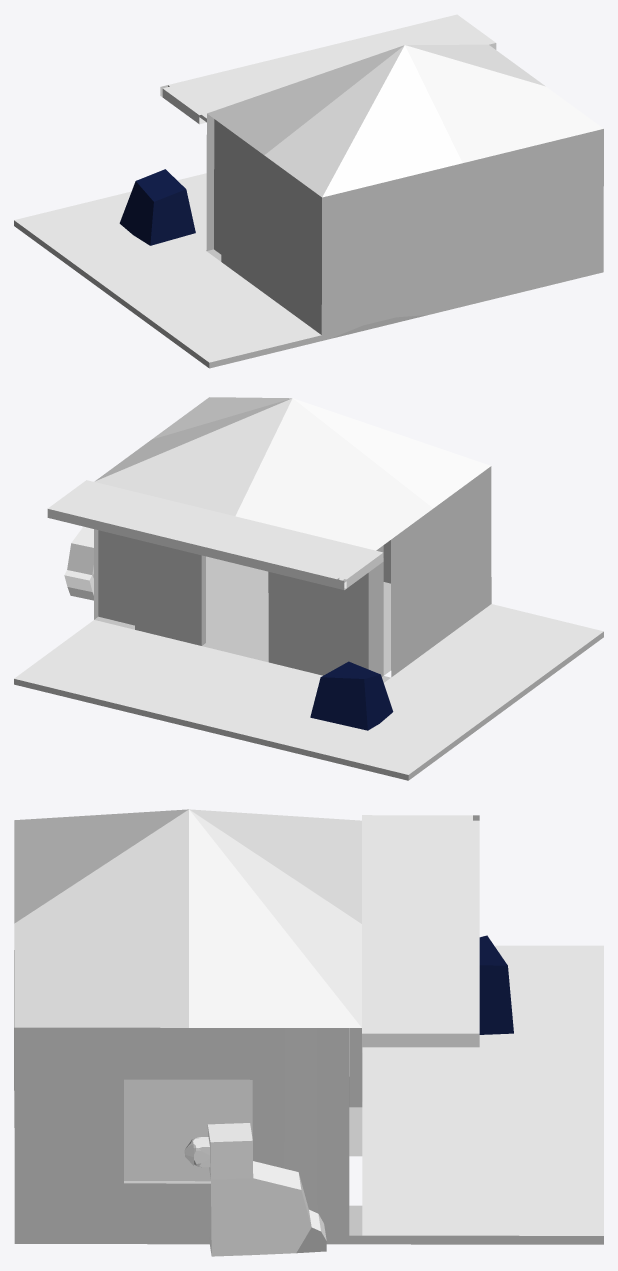
File: house.glb
The picture shows the model from 3 angles, top to bottom: view 1: azimuth 30°, elevation 25°; view 2: azimuth 150°, elevation 25°; view 3: azimuth 270°, elevation 25°; orthographic projection. The views are drawn at different scales.
Visible parts, largest first — view 1: Cube, Cube.002; view 2: Cube, Cube.002, Cube.003; view 3: Cube, Cube.003, Cube.002.
Boxes of the visible parts, bbox=[...] form: Cube: bbox=[14, 14, 603, 368]; Cube.002: bbox=[119, 169, 195, 245]; Cube: bbox=[14, 397, 603, 780]; Cube.002: bbox=[310, 661, 393, 730]; Cube.003: bbox=[64, 526, 93, 600]; Cube: bbox=[14, 809, 603, 1244]; Cube.003: bbox=[184, 1123, 326, 1256]; Cube.002: bbox=[479, 935, 513, 1034].
Bounding box in the file's own units: 11.83 × 5.65 × 9.11.
